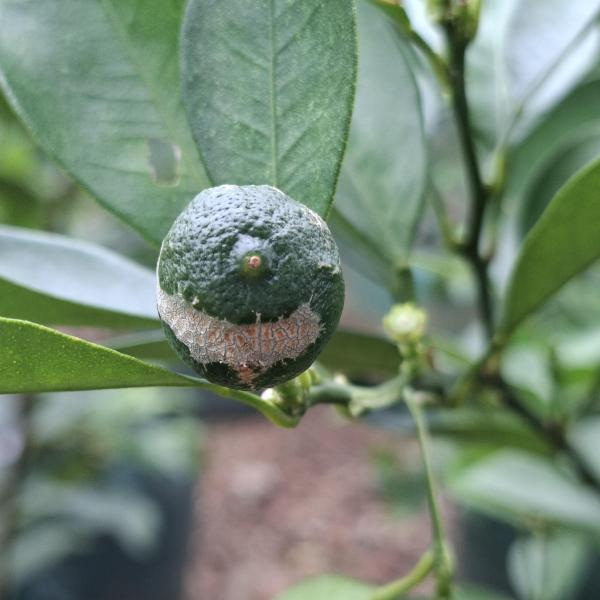Scab: (138, 172, 358, 397)
